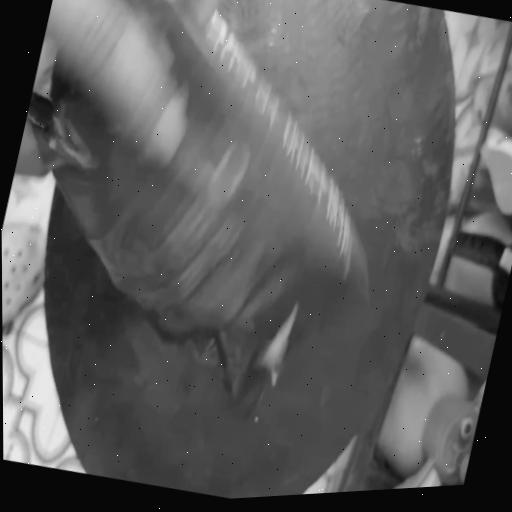cafe_xay: (26, 0, 366, 418)
